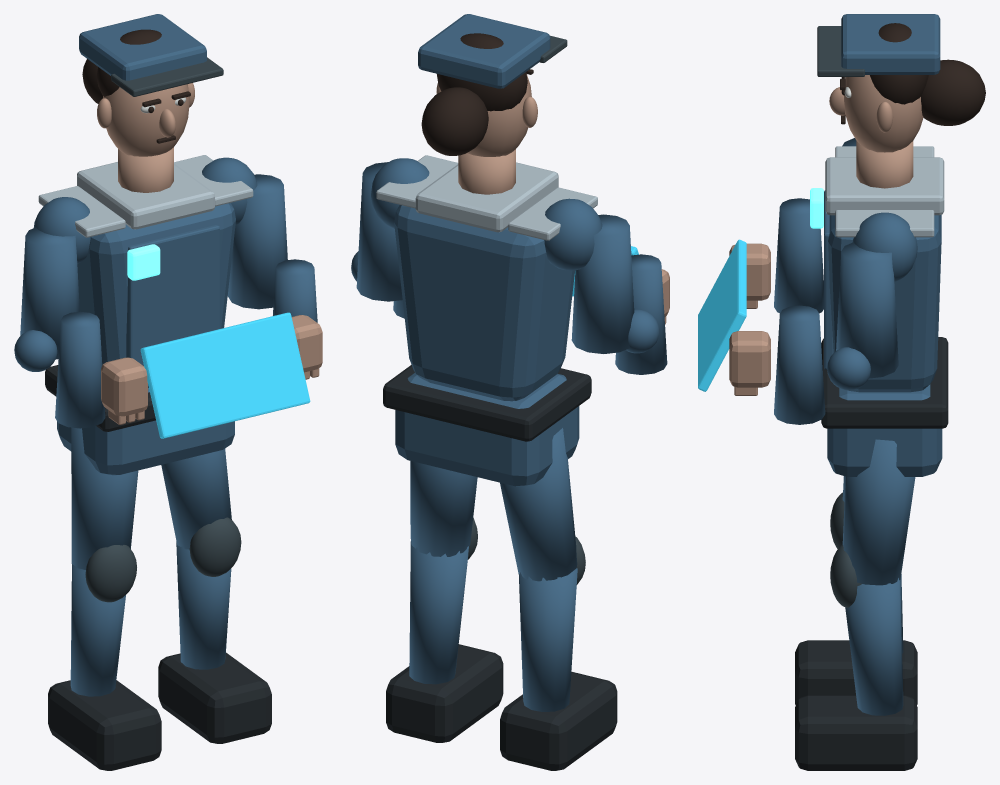
The model's file is crew_operations.glb.
3 renders of one model, left to right at view 1: azimuth 30°, elevation 25°; view 2: azimuth 150°, elevation 25°; view 3: azimuth 270°, elevation 25°, orthographic. The views are drawn at different scales.
Parts seen in each view (by area): view 1: Crew_Operations_Navy, Crew_Boots, Crew_Screen_Blue, LeftArmPivot_Crew_Operations_Navy, RightArmPivot_Crew_Operations_Navy, Hangar_Trim_Metal, HeadPivot_Crew_Operations_Navy, HeadPivot_Crew_Warm_Skin, Hangar_Recess_Metal, LeftArmPivot_Crew_Warm_Skin, Crew_Warm_Skin, HeadPivot_Hangar_Recess_Metal (+3 smaller); view 2: Crew_Operations_Navy, Crew_Boots, LeftArmPivot_Crew_Operations_Navy, Hangar_Trim_Metal, HeadPivot_Crew_Operations_Navy, RightArmPivot_Crew_Operations_Navy, HeadPivot_Crew_Hair, HeadPivot_Crew_Warm_Skin, Crew_Warm_Skin, Hangar_Recess_Metal; view 3: Crew_Operations_Navy, Crew_Boots, RightArmPivot_Crew_Operations_Navy, Hangar_Trim_Metal, HeadPivot_Crew_Operations_Navy, HeadPivot_Crew_Hair, LeftArmPivot_Crew_Operations_Navy, HeadPivot_Crew_Warm_Skin, Crew_Screen_Blue, RightArmPivot_Crew_Warm_Skin, Crew_Warm_Skin, Hangar_Recess_Metal (+3 smaller).
Boxes of the visible parts, <box> form: Crew_Operations_Navy: <box>57,203,235,696</box>; Crew_Boots: <box>45,365,271,770</box>; Crew_Screen_Blue: <box>140,312,310,438</box>; LeftArmPivot_Crew_Operations_Navy: <box>14,197,105,428</box>; RightArmPivot_Crew_Operations_Navy: <box>202,157,317,322</box>; Hangar_Trim_Metal: <box>38,155,253,237</box>; HeadPivot_Crew_Operations_Navy: <box>79,14,206,80</box>; HeadPivot_Crew_Warm_Skin: <box>97,83,194,156</box>; Hangar_Recess_Metal: <box>85,517,241,602</box>; LeftArmPivot_Crew_Warm_Skin: <box>101,357,147,424</box>; Crew_Warm_Skin: <box>118,147,173,192</box>; HeadPivot_Hangar_Recess_Metal: <box>111,57,223,96</box>; Crew_Operations_Navy: <box>394,205,579,711</box>; Crew_Boots: <box>383,365,617,770</box>; LeftArmPivot_Crew_Operations_Navy: <box>544,198,667,374</box>; Hangar_Trim_Metal: <box>376,155,597,240</box>; HeadPivot_Crew_Operations_Navy: <box>418,14,550,88</box>; RightArmPivot_Crew_Operations_Navy: <box>351,158,429,318</box>; HeadPivot_Crew_Hair: <box>421,33,533,155</box>; HeadPivot_Crew_Warm_Skin: <box>436,74,537,156</box>; Crew_Warm_Skin: <box>458,149,515,194</box>; Hangar_Recess_Metal: <box>468,518,585,584</box>; Crew_Operations_Navy: <box>824,190,942,715</box>; Crew_Boots: <box>795,337,948,770</box>; RightArmPivot_Crew_Operations_Navy: <box>774,212,917,424</box>; Hangar_Trim_Metal: <box>825,146,944,237</box>; HeadPivot_Crew_Operations_Navy: <box>841,14,940,74</box>; HeadPivot_Crew_Hair: <box>840,23,985,125</box>; LeftArmPivot_Crew_Operations_Navy: <box>774,138,856,313</box>; HeadPivot_Crew_Warm_Skin: <box>829,75,923,152</box>; Crew_Screen_Blue: <box>698,239,746,391</box>; RightArmPivot_Crew_Warm_Skin: <box>729,331,770,395</box>; Crew_Warm_Skin: <box>856,141,913,188</box>; Hangar_Recess_Metal: <box>830,492,861,607</box>.
Bounding box in the file's own units: 0.872 × 1.96 × 0.7263.
